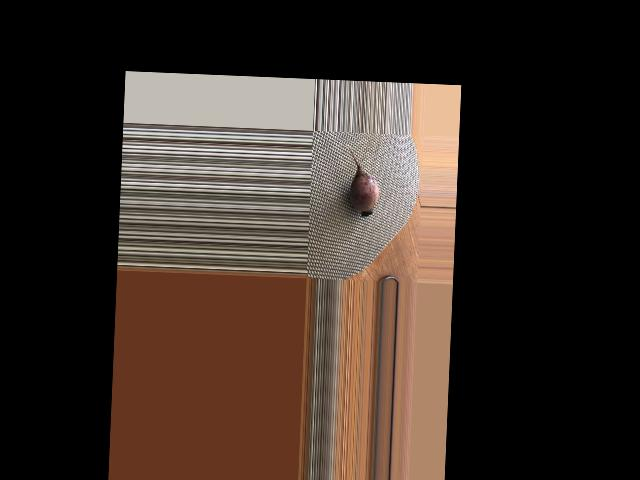beet: (342, 144, 380, 217)
